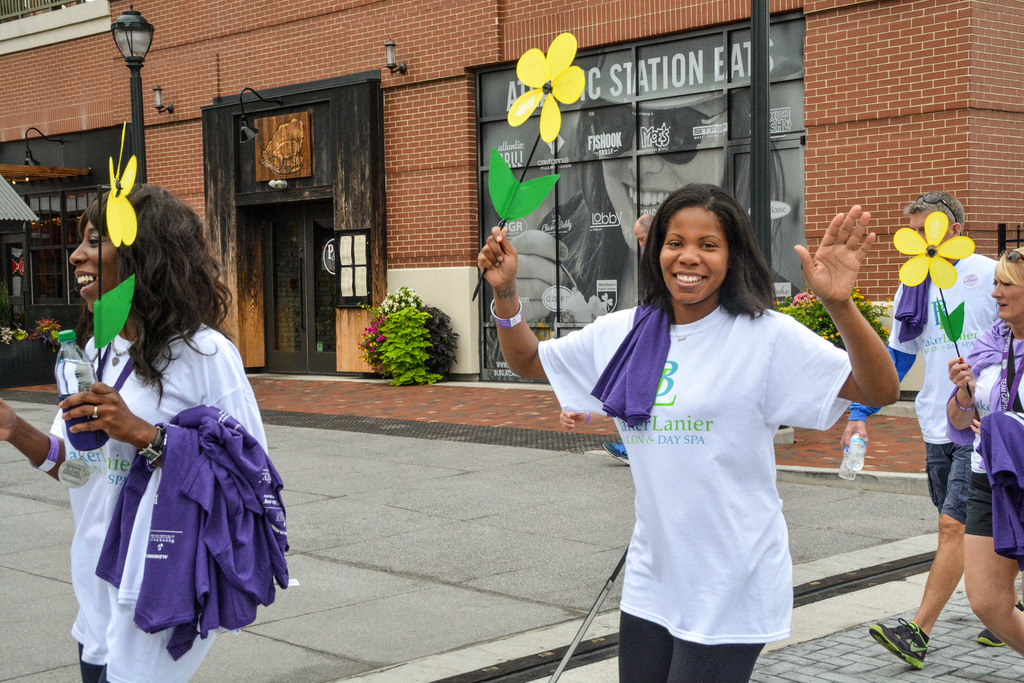Footwear: (879, 616, 931, 668), (974, 601, 1023, 646), (601, 438, 630, 465)
